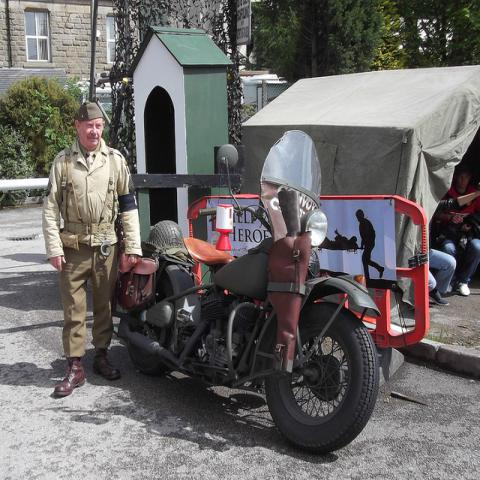motorcycle: (111, 128, 383, 457)
